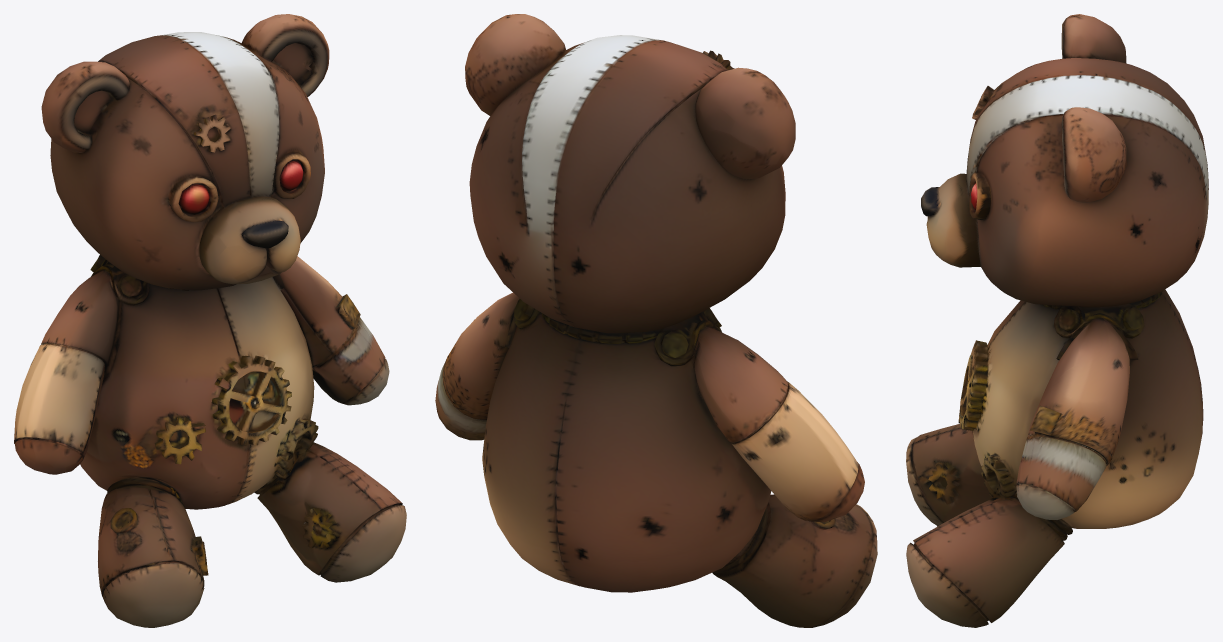
File: TeddyBear.fbx
The picture shows the model from 3 angles, left to right: view 1: azimuth 30°, elevation 25°; view 2: azimuth 150°, elevation 25°; view 3: azimuth 270°, elevation 25°; orthographic projection. The views are drawn at different scales.
Visible parts, largest first — view 1: model; view 2: model; view 3: model.
Part boxes in pixels (bbox=[...]): model: bbox=[14, 14, 406, 627]; model: bbox=[435, 14, 877, 627]; model: bbox=[906, 14, 1208, 627].
Bounding box in the file's own units: 133 × 183 × 97.96.
